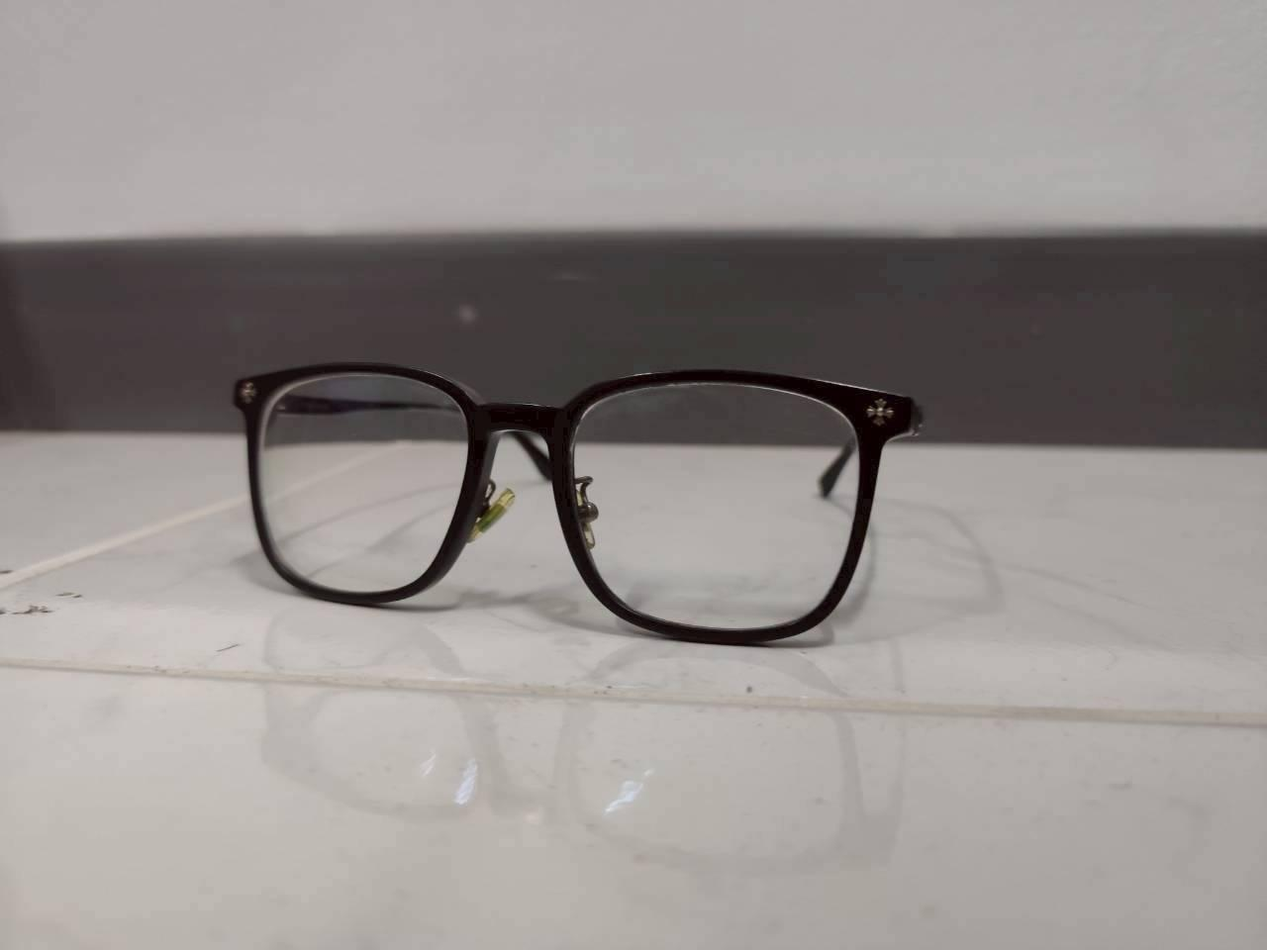glasses: (223, 340, 933, 665)
